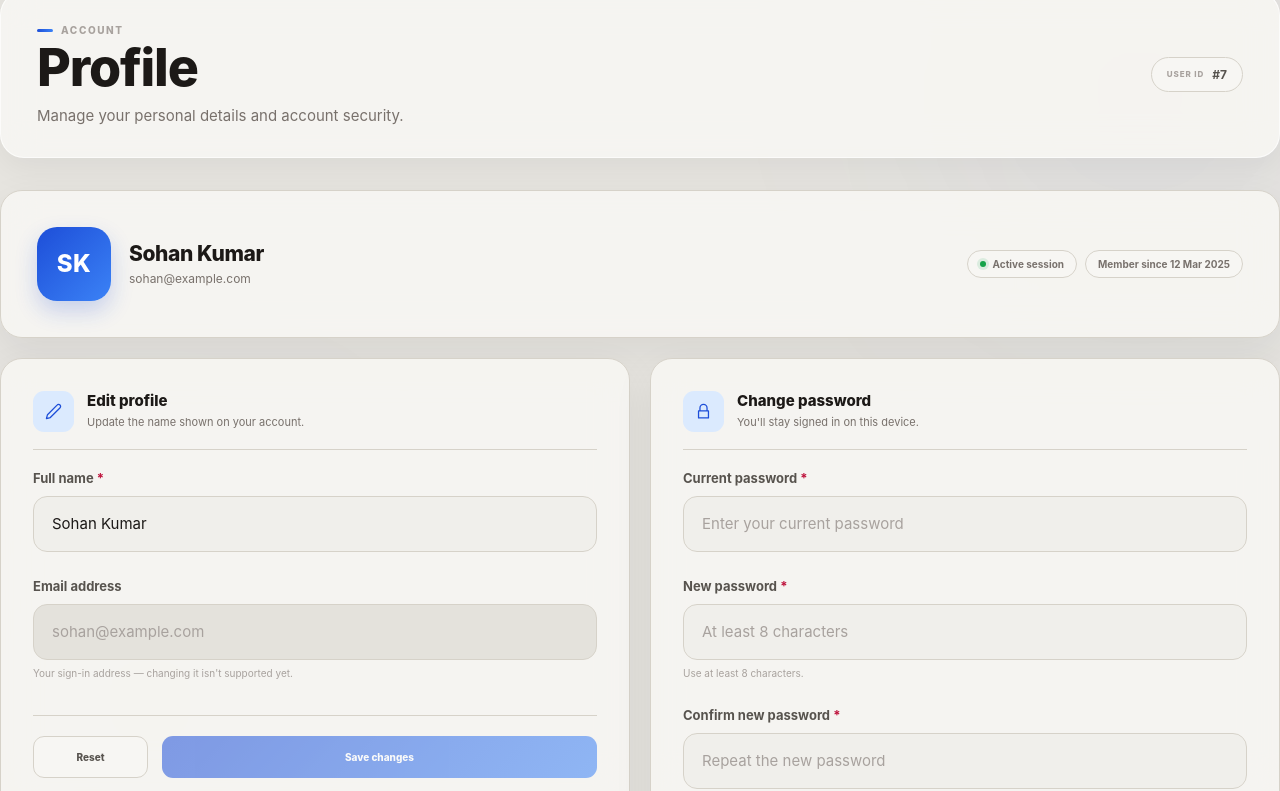
Profile › rejects a password that does not match
Type "old-password-1" into the password field labelled "Current password *" at (965, 524), box left=683, top=496, right=1247, bottom=552
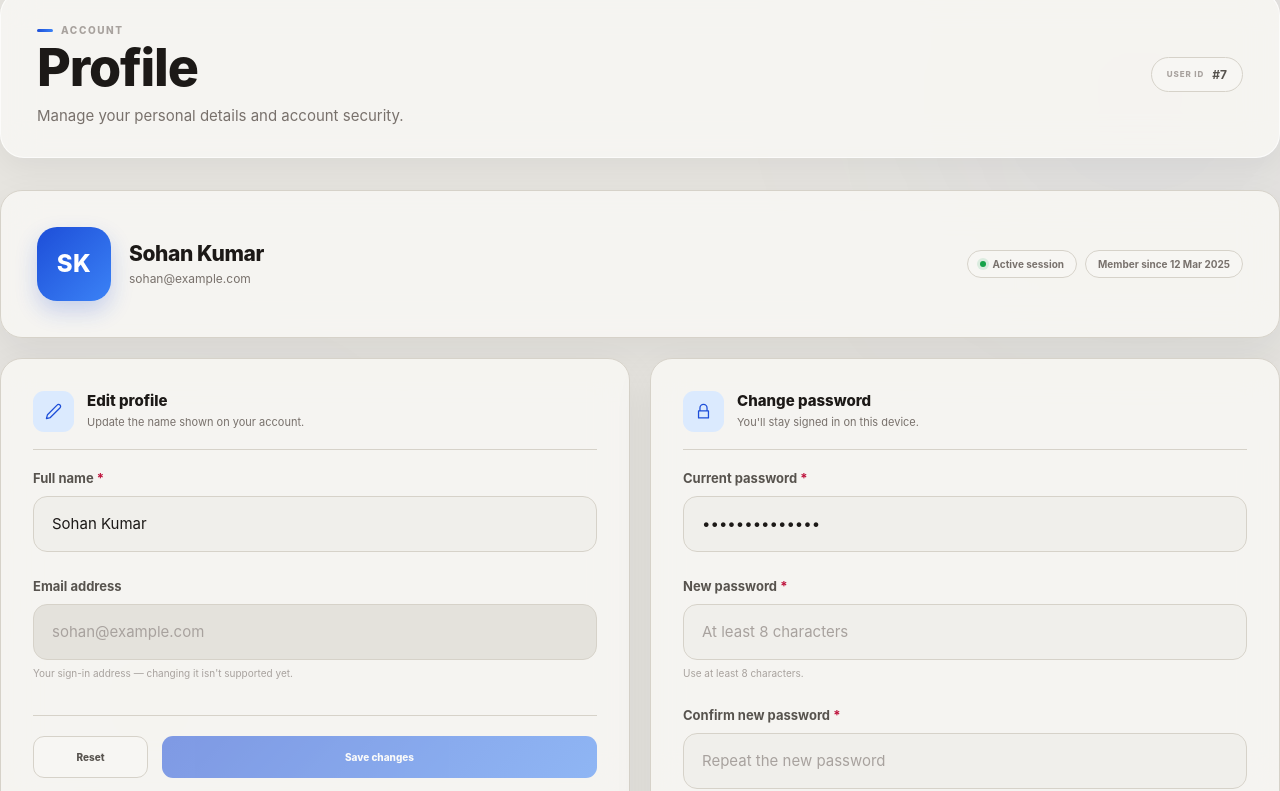
Type "new-password-1" into the password field labelled "New password *" at (965, 632), box left=683, top=604, right=1247, bottom=660
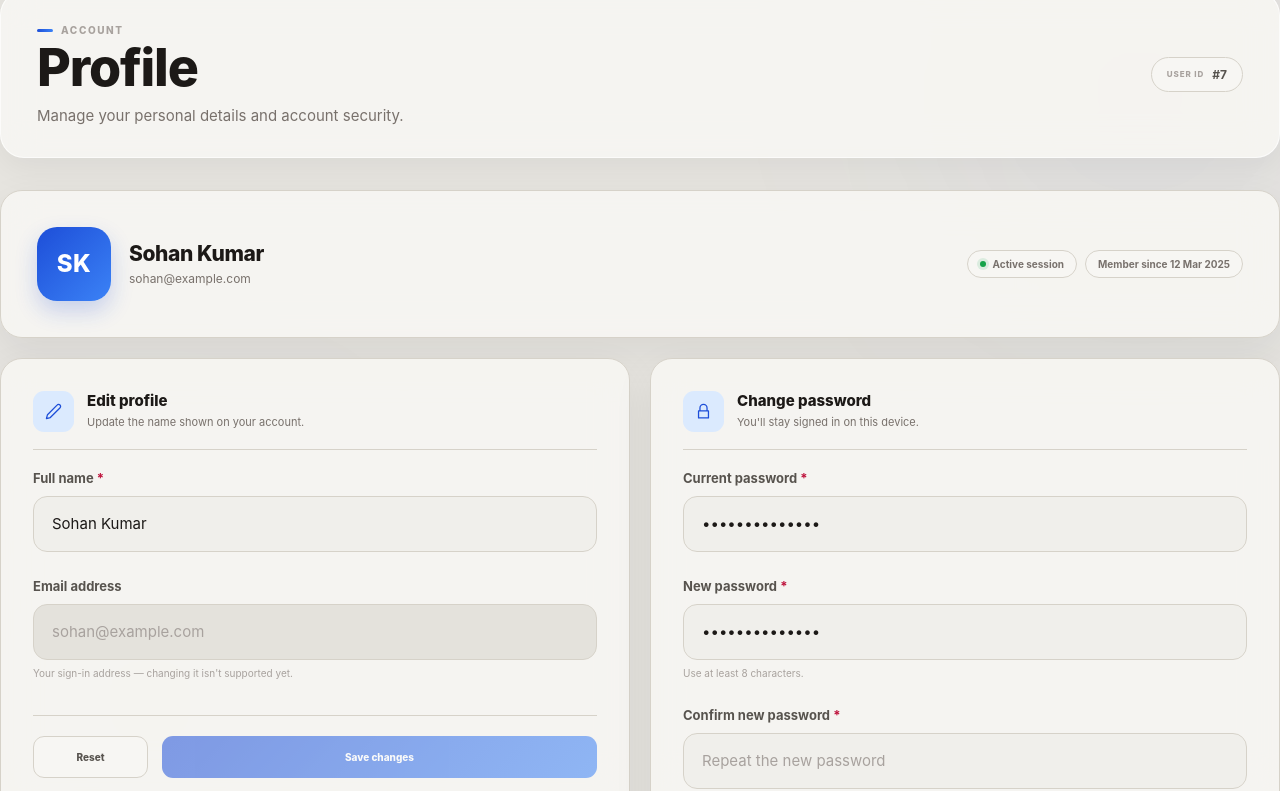
Type "different-password" into the password field labelled "Confirm new password *" at (965, 761), box left=683, top=733, right=1247, bottom=789
(page scrolled)
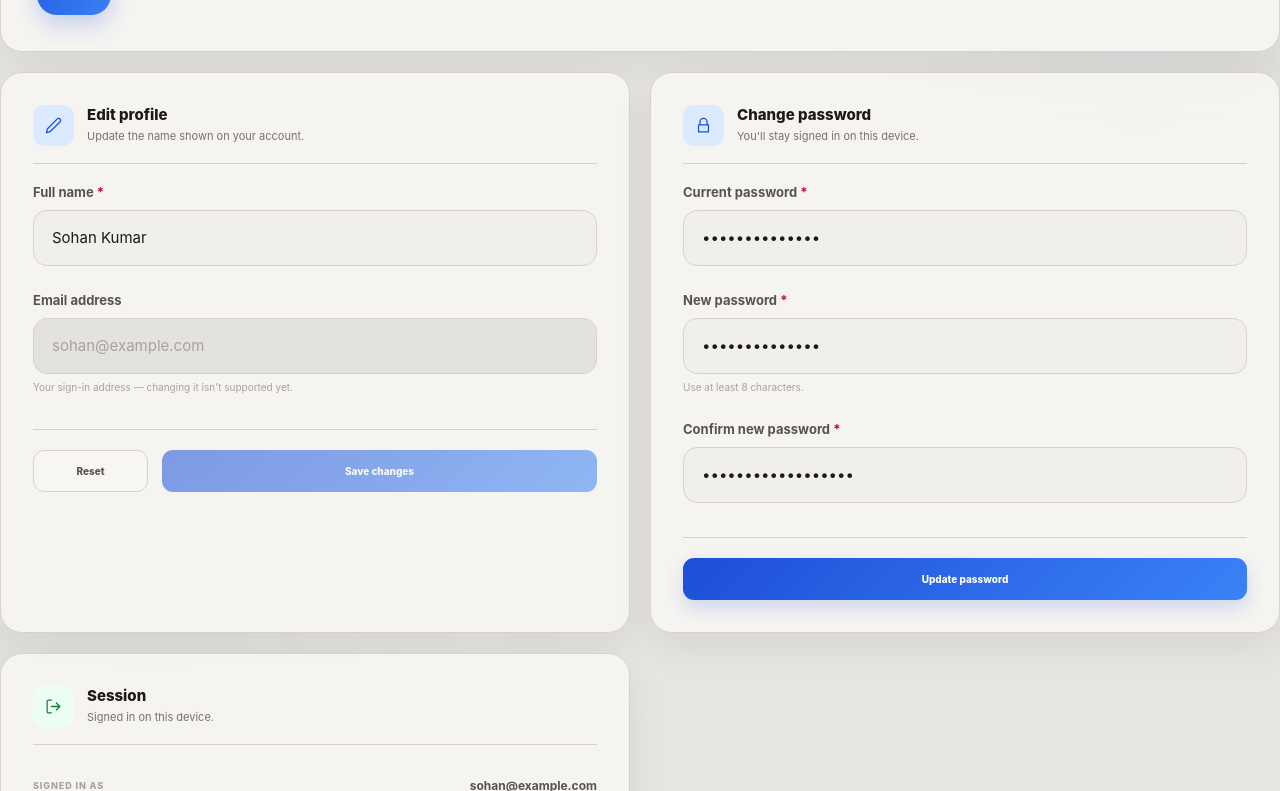
Submit the form that starts with "Current password", box left=683, top=184, right=1247, bottom=600
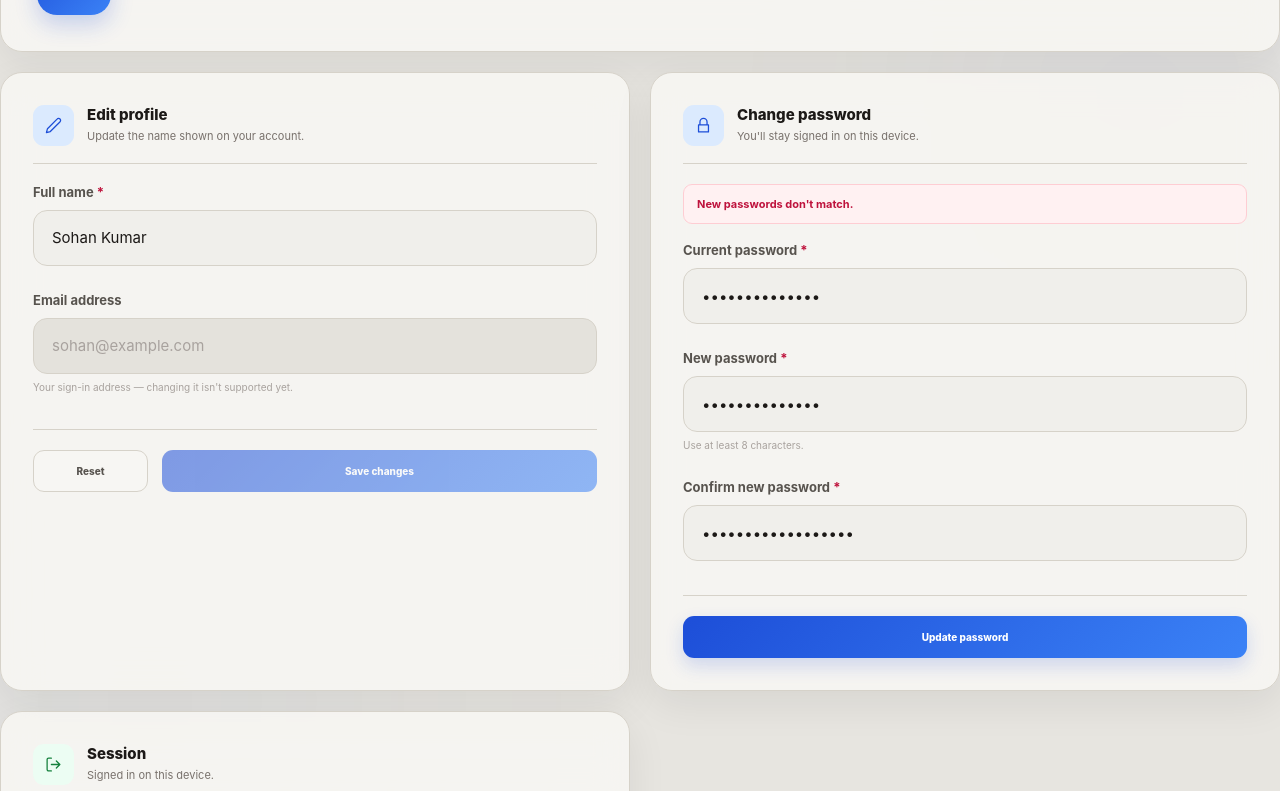
Expected: the message with class "form-error" shows "match", left=697, top=197, right=853, bottom=211
